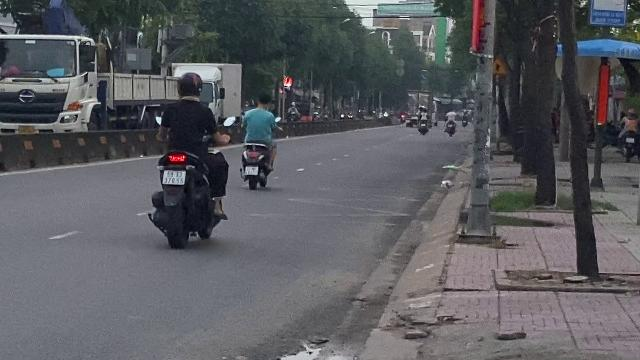helmet: (175, 72, 203, 100)
licenseplate: (163, 170, 185, 184), (245, 166, 258, 174)
motorcyclist: (147, 72, 229, 248), (239, 92, 279, 190)
nohelmet: (253, 93, 270, 109)
